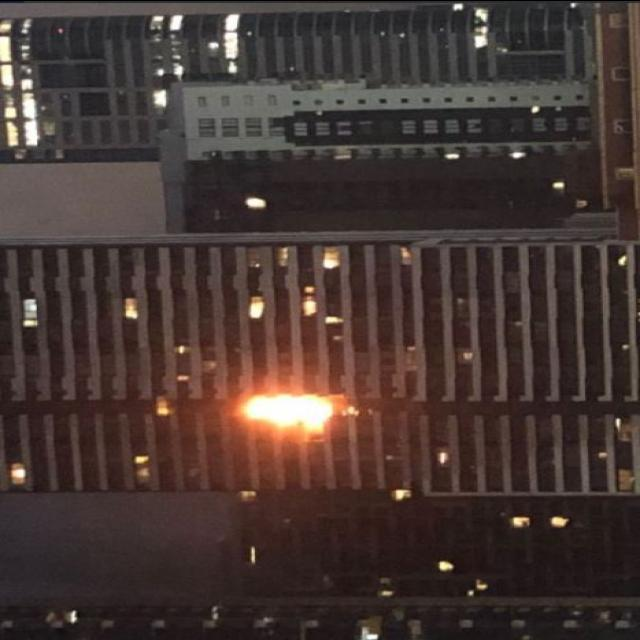Fire: (238, 392, 346, 430)
